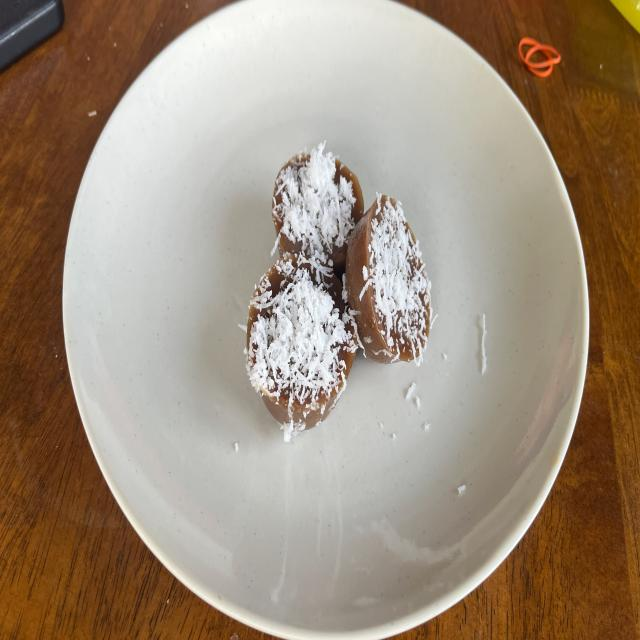Kuih lompang: (246, 253, 358, 440), (345, 193, 432, 364), (272, 142, 364, 278)
